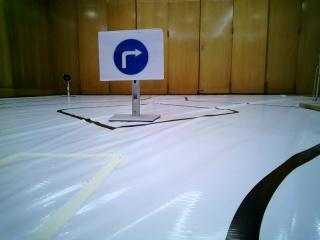right: (103, 36, 161, 79)
